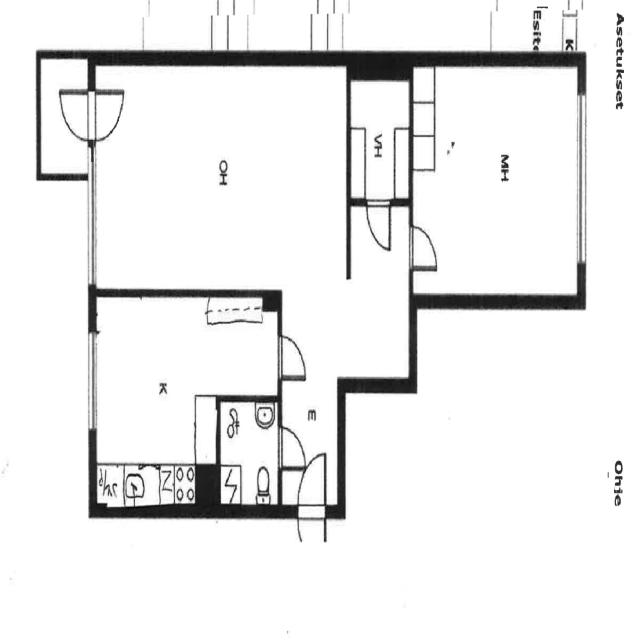door: (221, 394, 280, 514), (53, 86, 128, 142), (294, 448, 331, 546), (406, 220, 442, 274), (364, 196, 394, 254), (275, 332, 308, 382), (276, 424, 308, 472), (0, 444, 12, 487)
window: (570, 84, 592, 268), (83, 142, 99, 291), (83, 325, 101, 439)
zone: (88, 67, 358, 292), (410, 60, 585, 302), (90, 293, 279, 500), (348, 70, 412, 205), (220, 395, 280, 513)
